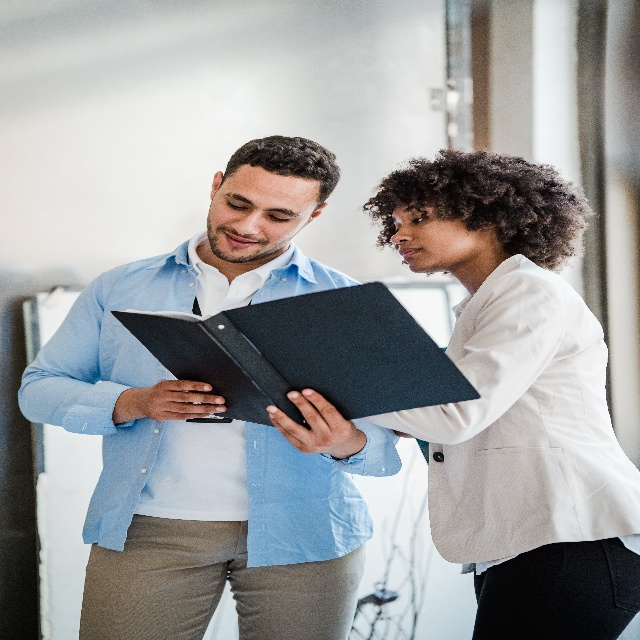Sin_guantes: (263, 377, 359, 460), (145, 373, 226, 425)
